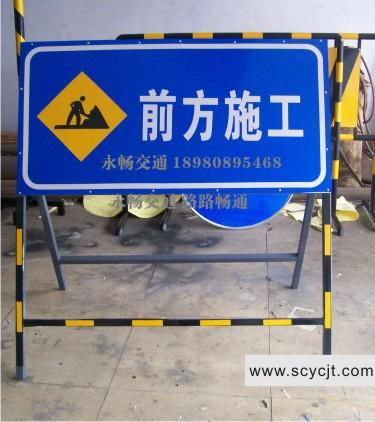sign: (22, 45, 333, 192)
